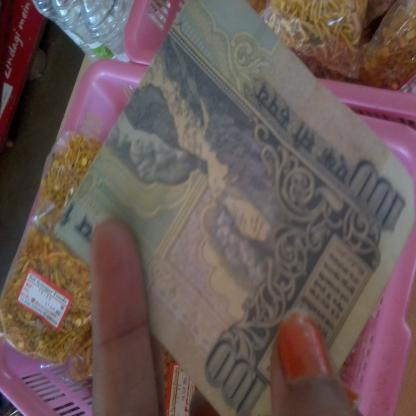Old100Back: (52, 0, 416, 416)
